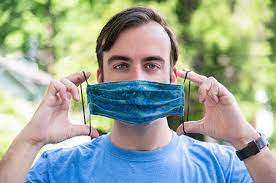FaceMask: (87, 80, 185, 124)
